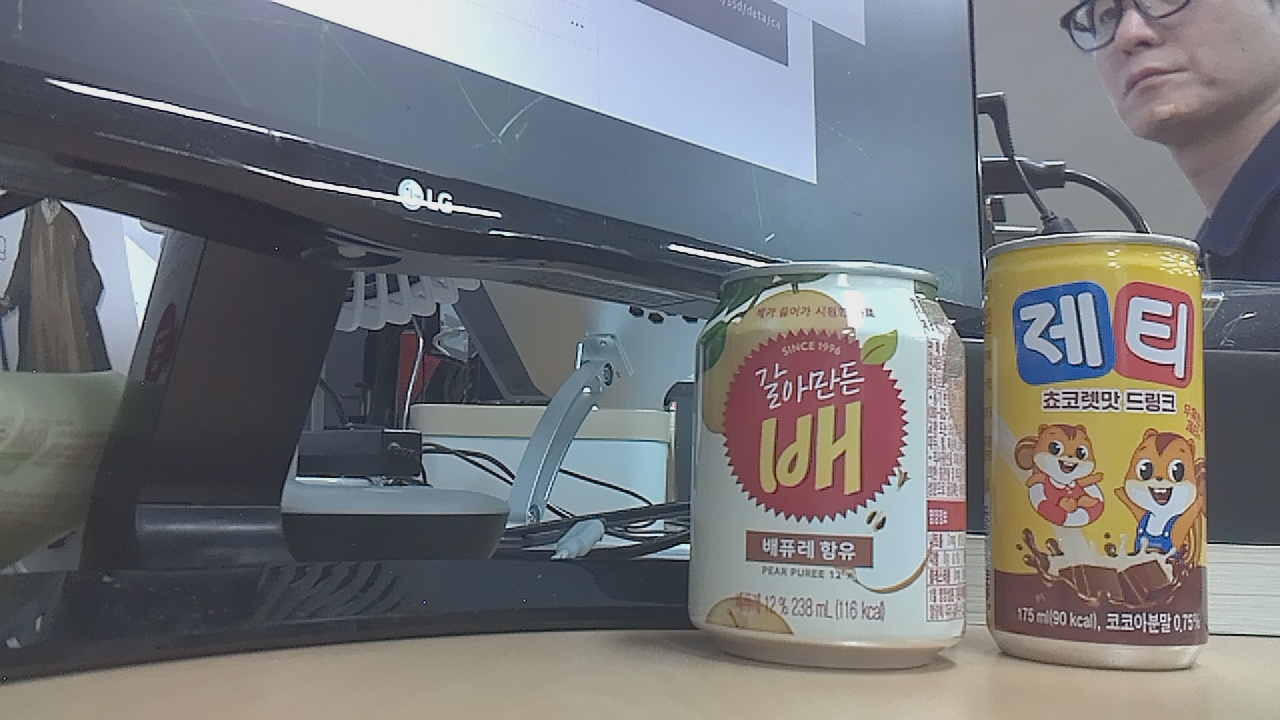IdH (pear juice): (689, 250, 975, 673)
jetty: (984, 225, 1228, 683)
